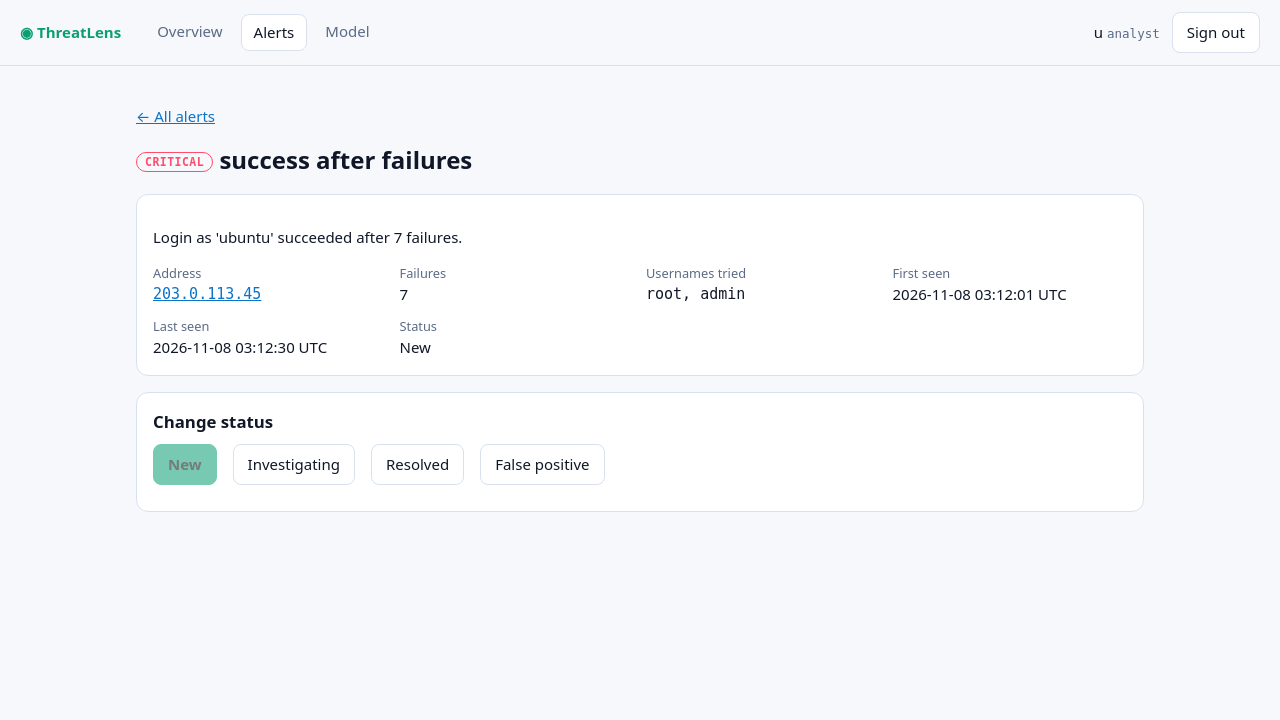
it: alert detail › lets an analyst change the status
Click the button "Investigating". click: click(294, 464)
box: left=233, top=444, right=355, bottom=485
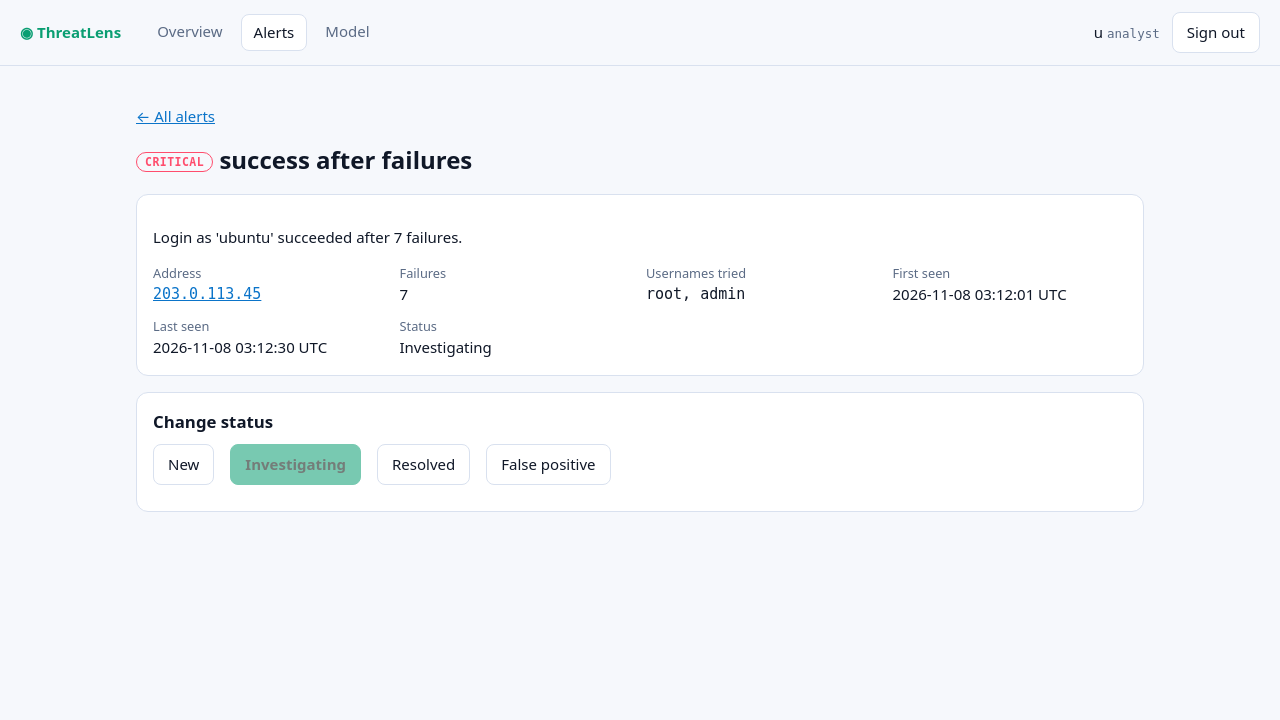
Result: the text with test id "status" reads "Investigating" at left=400, top=337, right=492, bottom=357
